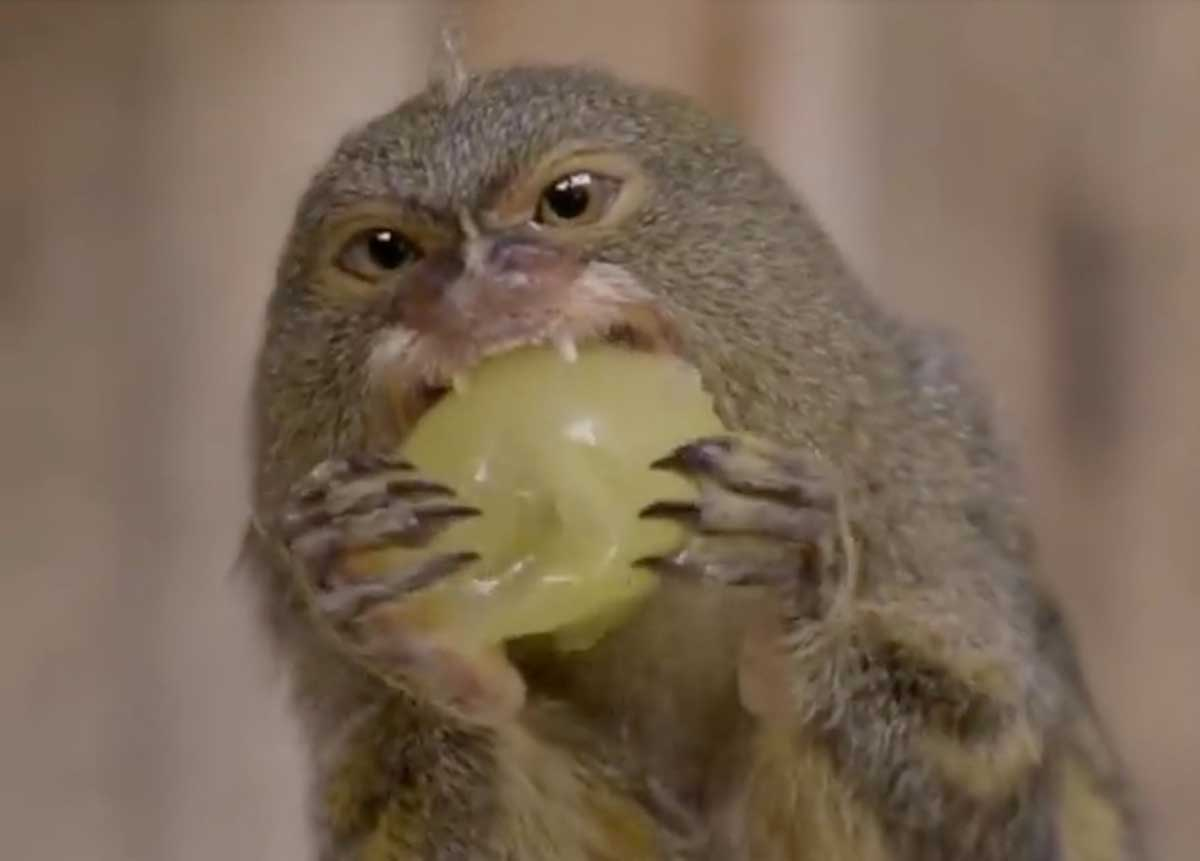PygmyMarmoset: (233, 69, 1099, 828)
